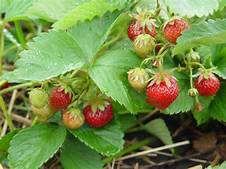Fresa: (145, 70, 180, 111), (82, 95, 115, 130), (194, 68, 222, 98)
